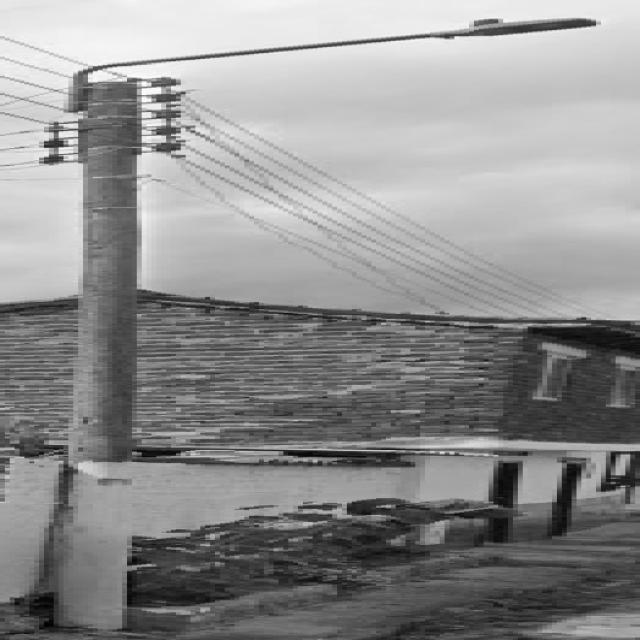Fachada: (137, 292, 640, 541), (5, 297, 73, 448)
Poste: (59, 18, 586, 630)
